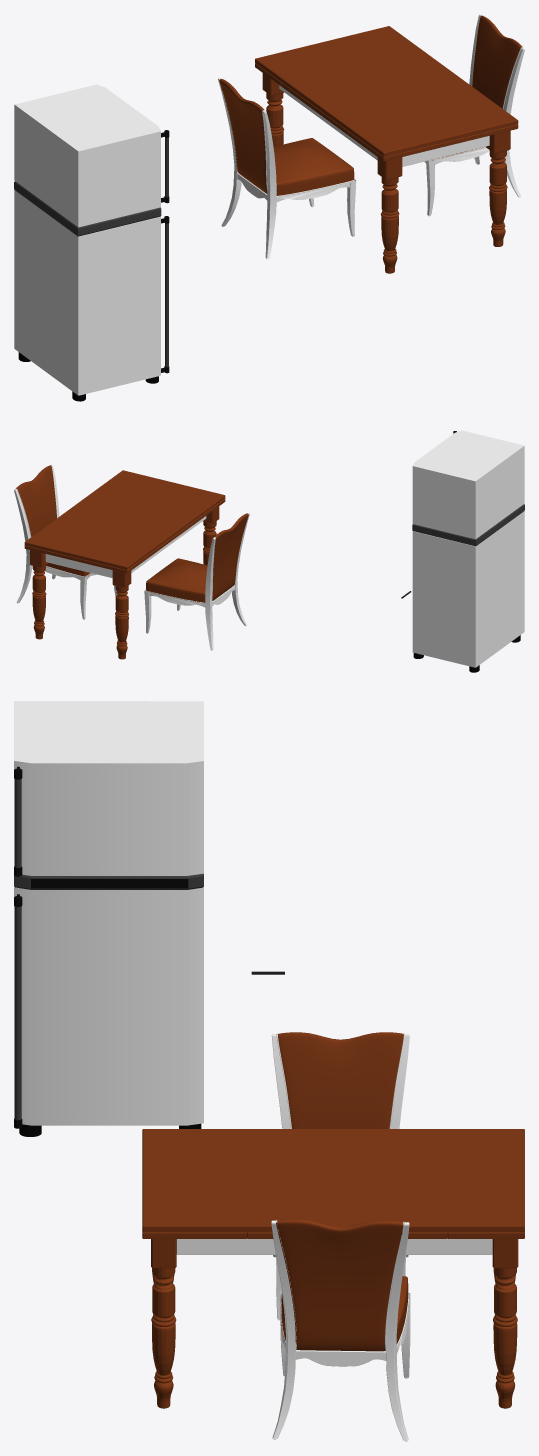
The model's file is homeKitchenTable.FBX.
3 views of the same model, one above another, from view 1: azimuth 30°, elevation 25°; view 2: azimuth 150°, elevation 25°; view 3: azimuth 270°, elevation 25° (orthographic). The views are drawn at different scales.
Visible parts, largest first — view 1: Line01, obj_04, Line03, Object027, Object028, obj_10, obj_004, Line02, obj_005, obj_25, Cylinder05, obj_006; view 2: Line01, obj_04, Line03, Object027, Object028, obj_25, obj_24, Line02, obj_005, obj_004, obj_26; view 3: Line01, obj_04, Line03, Object028, Object027, obj_005, obj_10, obj_24, Plane01, Cylinder05, Line02.
Boxes of the visible parts, <box> form: Line01: <box>14,190,160,395</box>; obj_04: <box>255,26,518,161</box>; Line03: <box>14,84,160,227</box>; Object027: <box>218,78,356,259</box>; Object028: <box>425,14,524,216</box>; obj_10: <box>489,150,507,246</box>; obj_004: <box>380,177,399,273</box>; Line02: <box>14,181,161,236</box>; obj_005: <box>279,85,489,166</box>; obj_25: <box>266,92,284,146</box>; Cylinder05: <box>165,223,168,367</box>; obj_006: <box>377,157,402,179</box>; Line01: <box>412,511,524,667</box>; obj_04: <box>24,470,225,573</box>; Line03: <box>412,430,524,539</box>; Object027: <box>144,512,249,650</box>; Object028: <box>14,464,117,619</box>; obj_25: <box>115,585,128,659</box>; obj_24: <box>32,565,46,639</box>; Line02: <box>412,504,524,546</box>; obj_005: <box>45,516,206,578</box>; obj_004: <box>203,521,216,565</box>; obj_26: <box>112,570,131,587</box>; Line01: <box>14,886,203,1125</box>; obj_04: <box>142,1129,524,1238</box>; Line03: <box>14,701,203,875</box>; Object028: <box>271,1219,410,1441</box>; Object027: <box>271,1032,409,1320</box>; obj_005: <box>176,1238,492,1254</box>; obj_10: <box>151,1268,176,1408</box>; obj_24: <box>493,1268,517,1408</box>; Plane01: <box>31,879,188,888</box>; Cylinder05: <box>15,906,21,1120</box>; Line02: <box>14,873,203,889</box>.
Bounding box in the file's own units: 124 × 55.87 × 69.08.
